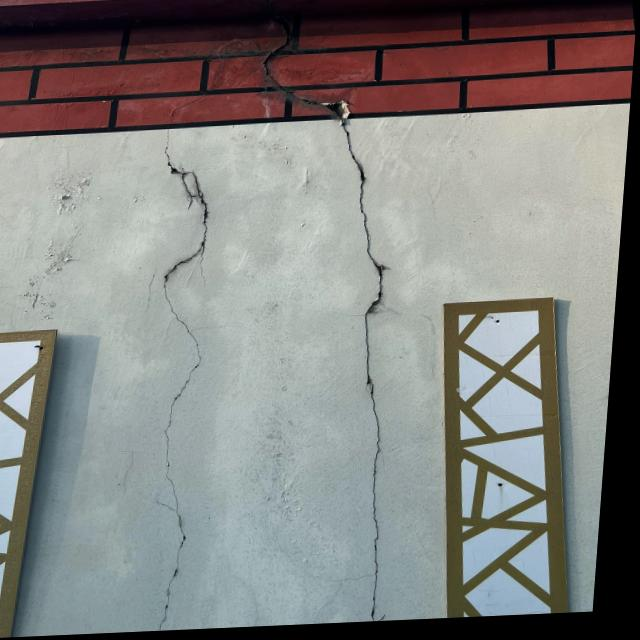crack: (323, 115, 424, 624), (129, 130, 229, 632), (246, 13, 365, 118)
